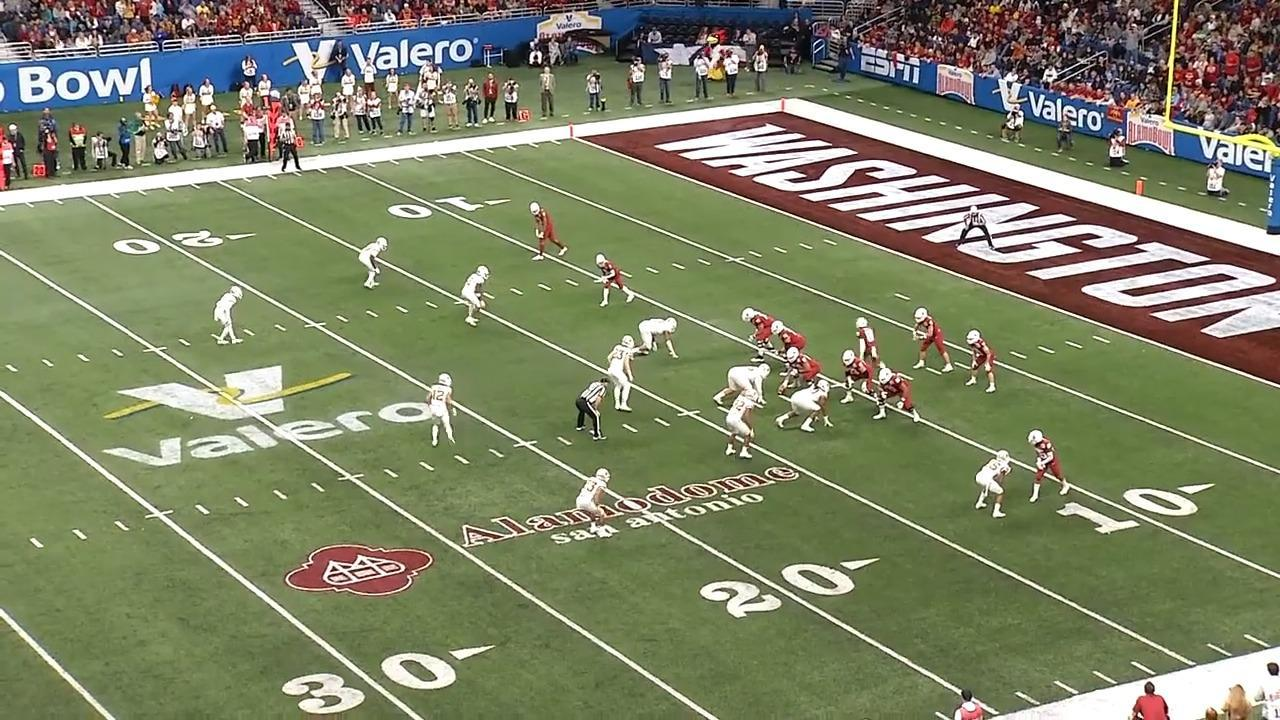player: (1026, 427, 1071, 507), (973, 447, 1014, 524), (605, 332, 642, 413), (573, 467, 612, 543), (870, 366, 919, 426), (774, 382, 830, 434), (528, 203, 571, 268), (722, 386, 759, 461), (713, 363, 772, 410), (912, 306, 952, 375), (423, 370, 458, 448), (589, 251, 635, 309), (462, 265, 498, 330), (966, 330, 1000, 398), (633, 315, 680, 363), (212, 283, 246, 348), (840, 350, 876, 407), (744, 306, 781, 361), (775, 323, 808, 382), (786, 351, 827, 398), (357, 236, 390, 293), (853, 315, 881, 373)
ref: (570, 375, 607, 442), (955, 204, 997, 257), (278, 122, 303, 174)
